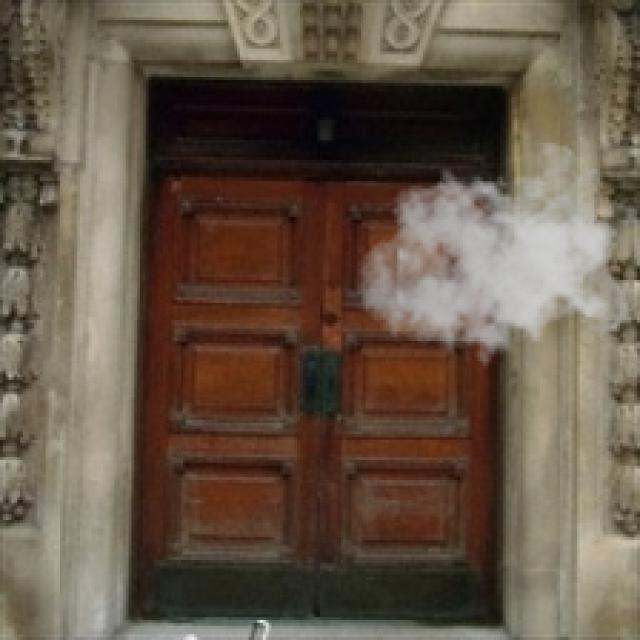smoke: (357, 143, 637, 377)
